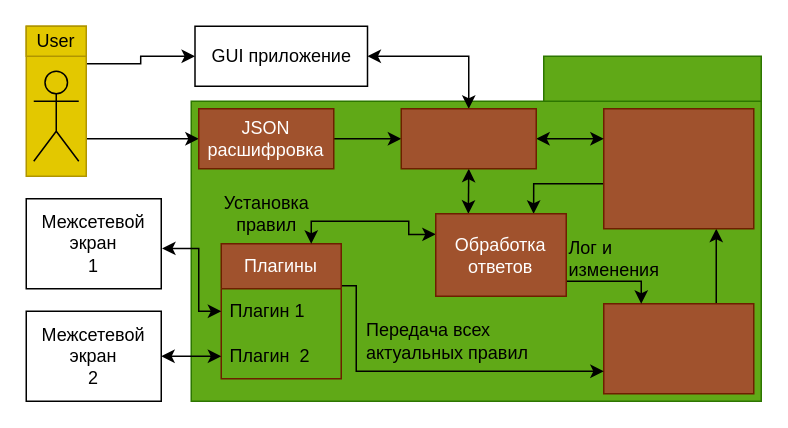
The diagram is 788 pixels wide and 428 high, and some of its shapes have lost their labels. Here are the shapes that lost their labels. From the top down, the box of each, then its label:
(542, 55, 761, 101): CLI версия (ядро)
(400, 107, 536, 169): API обработка
(602, 107, 754, 229): Сервис тестирования взаимодействия правил
(602, 302, 754, 394): SQLite (буфер и лог)
